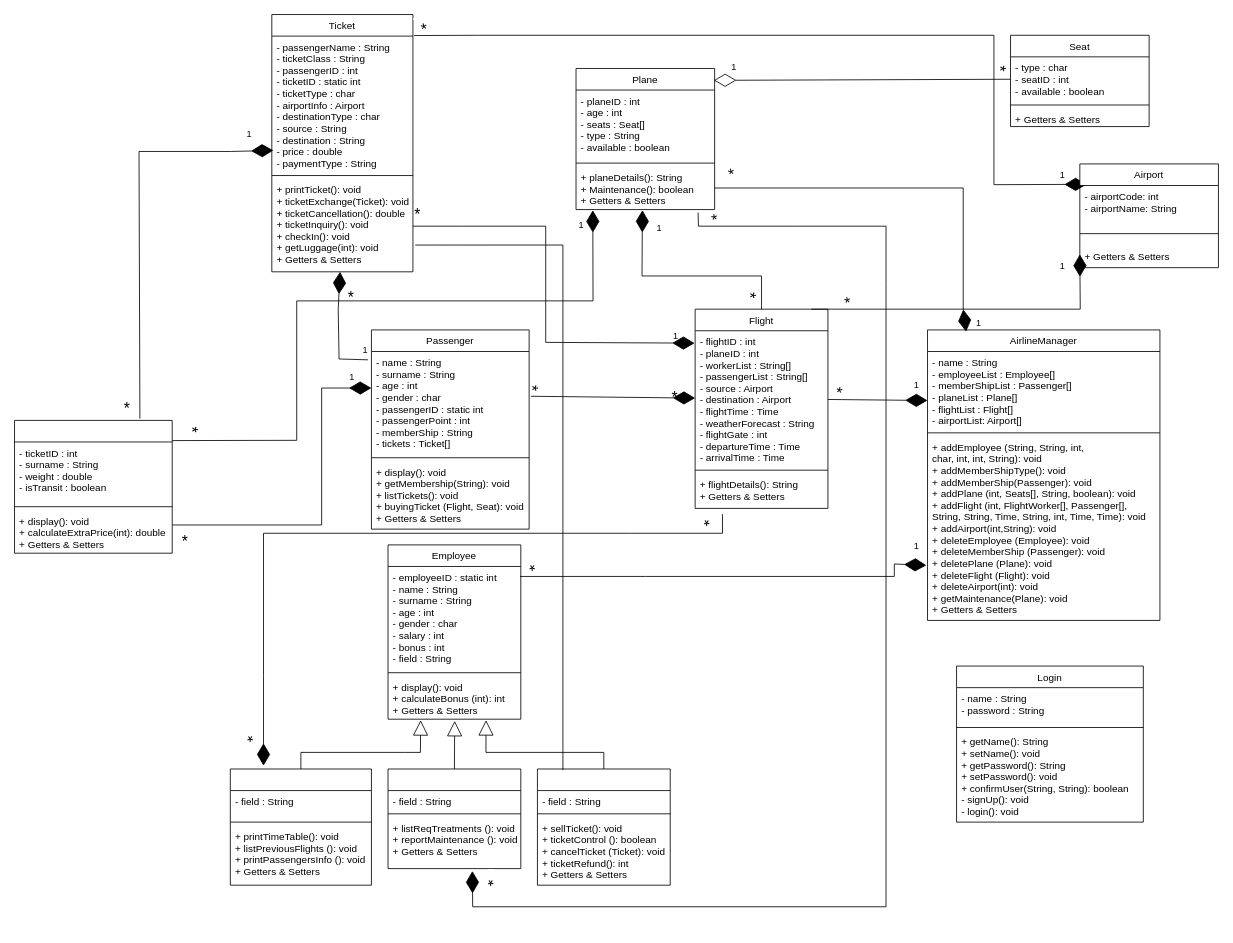
This 1233x943 diagram has some shape labels left out. Here are the shapes that lost their labels. From the top down, the box of each, then its label:
(14, 420, 172, 553): Luggage
(229, 768, 371, 885): FlightWorker
(387, 768, 521, 869): MaintenanceWorker
(537, 768, 670, 885): TicketOfficeWorker
